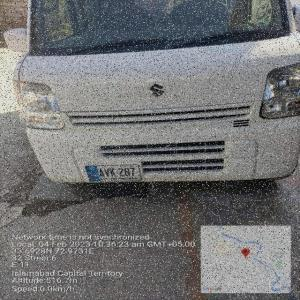Plate: (77, 163, 148, 185)
